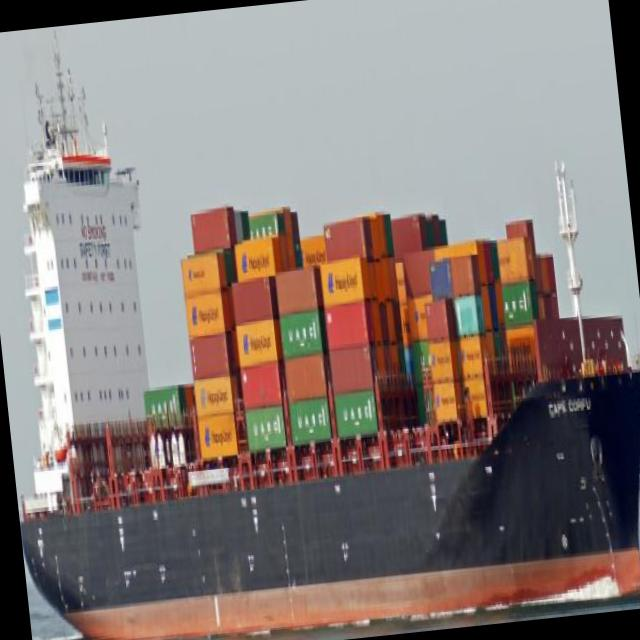Cargo: (22, 64, 640, 640)
